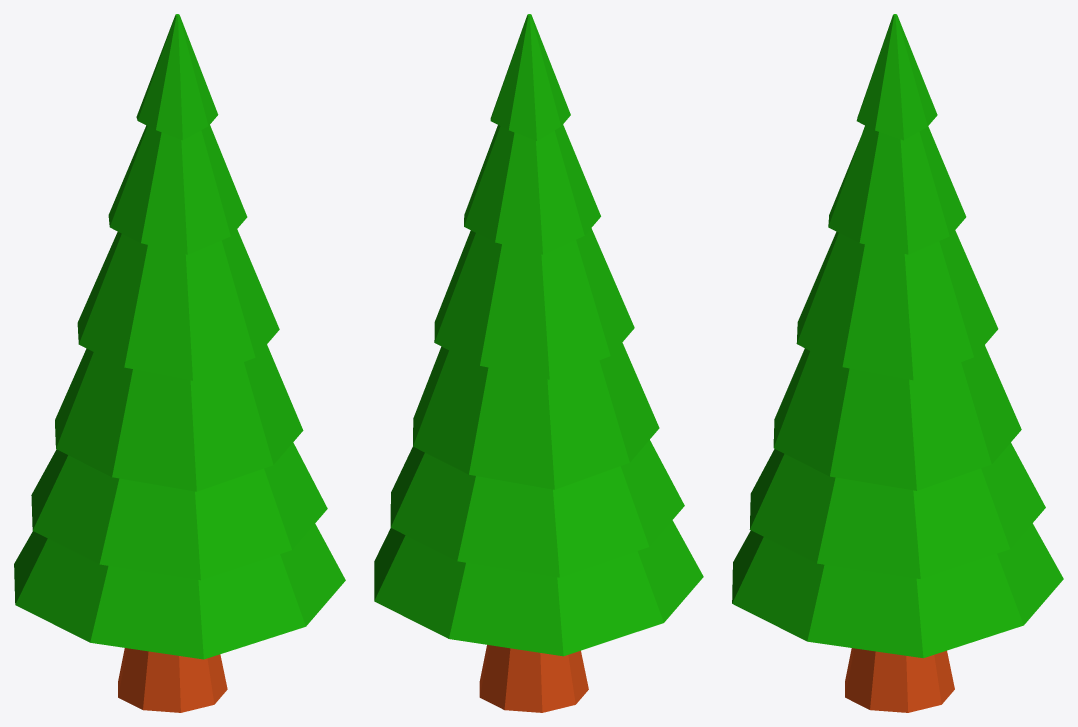
Rendered from othertree.fbx.
The picture shows the model from 3 angles, left to right: view 1: azimuth 30°, elevation 25°; view 2: azimuth 150°, elevation 25°; view 3: azimuth 270°, elevation 25°; orthographic projection.
Parts seen in each view (by area): view 1: Cylinder; view 2: Cylinder; view 3: Cylinder.
Part boxes in pixels (x1,y1,x2,y2): Cylinder: [14, 14, 345, 712]; Cylinder: [374, 14, 703, 712]; Cylinder: [732, 14, 1063, 712].
Bounding box in the file's own units: 231 × 512 × 228.
